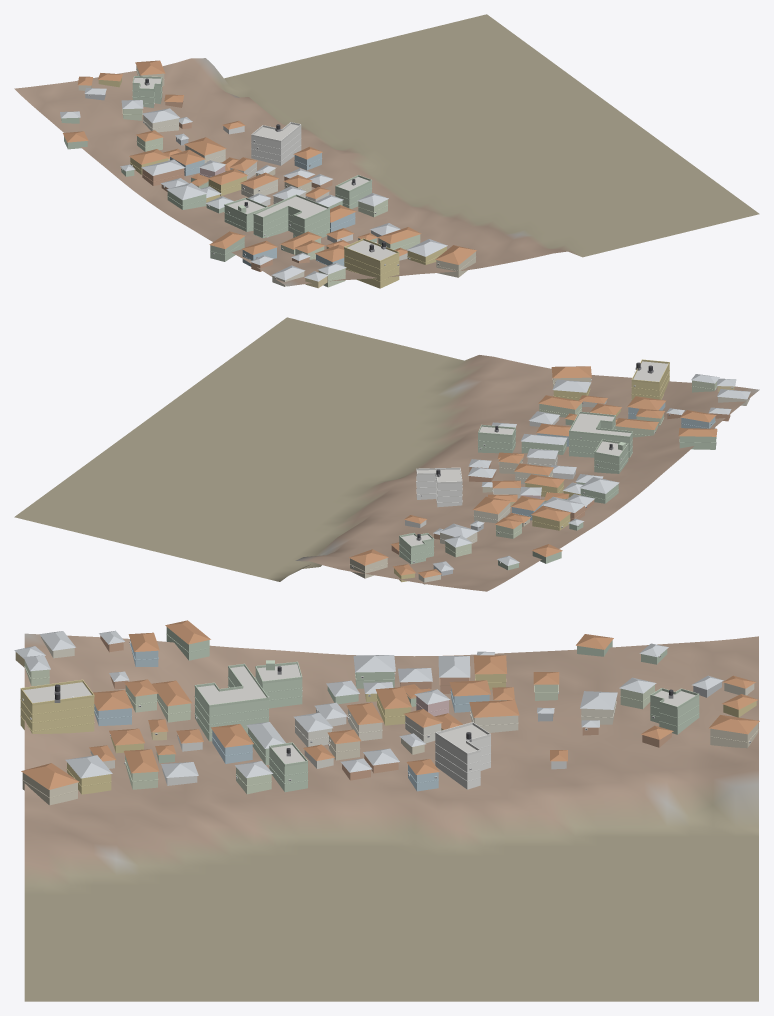
3 views of the same model, one above another, from view 1: azimuth 30°, elevation 25°; view 2: azimuth 150°, elevation 25°; view 3: azimuth 270°, elevation 25° (orthographic). The views are drawn at different scales.
Visible parts, largest first — view 1: Terrain-col, Buildings-col, Details; view 2: Terrain-col, Buildings-col, Details; view 3: Terrain-col, Buildings-col, Details.
Boxes of the visible parts, left/top/right/bottom form: Terrain-col: left=14, top=14, right=759, bottom=286; Buildings-col: left=60, top=60, right=476, bottom=288; Details: left=88, top=69, right=475, bottom=281; Terrain-col: left=14, top=317, right=759, bottom=591; Buildings-col: left=349, top=361, right=750, bottom=584; Details: left=350, top=359, right=748, bottom=571; Terrain-col: left=24, top=633, right=758, bottom=1001; Buildings-col: left=14, top=620, right=759, bottom=805; Details: left=20, top=634, right=758, bottom=798.
Bounding box in the file's own units: 265 × 26.92 × 260.
